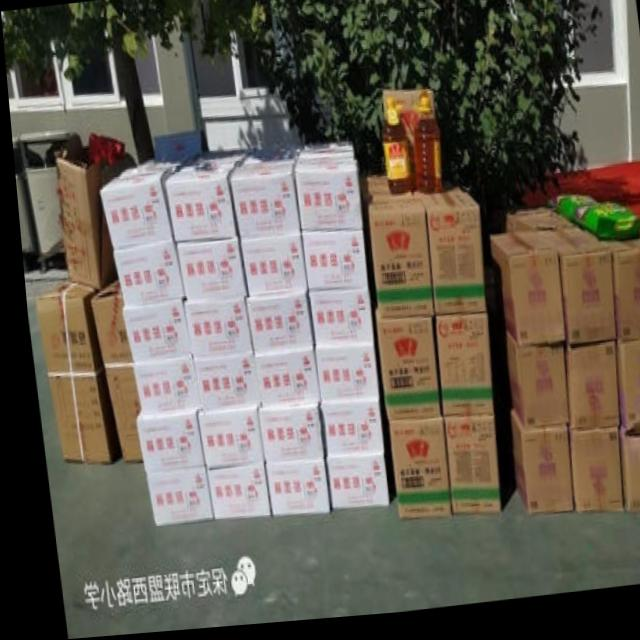box: (28, 280, 111, 463), (51, 149, 131, 292), (530, 234, 609, 353), (84, 279, 133, 464), (483, 238, 559, 356), (363, 204, 428, 322), (417, 200, 479, 323), (368, 314, 432, 427), (501, 417, 562, 521), (94, 168, 169, 252), (379, 424, 441, 525), (498, 338, 561, 437), (429, 320, 485, 421), (436, 423, 491, 522), (162, 169, 234, 244), (227, 163, 295, 241), (378, 96, 432, 192), (594, 242, 640, 350), (291, 163, 358, 235), (557, 351, 611, 439), (559, 434, 613, 522), (107, 241, 179, 307), (234, 235, 301, 301), (116, 301, 186, 364), (128, 409, 195, 473), (170, 242, 239, 303), (240, 297, 306, 360), (189, 408, 254, 471), (179, 299, 246, 360), (136, 467, 203, 528), (296, 235, 362, 295), (125, 356, 192, 415), (248, 353, 312, 412), (250, 408, 314, 467), (312, 402, 376, 461), (308, 347, 371, 406), (255, 463, 320, 520), (186, 358, 253, 413), (303, 293, 366, 350), (196, 467, 261, 522), (316, 460, 378, 514), (608, 347, 640, 446), (609, 436, 640, 522), (499, 213, 567, 241), (176, 154, 247, 173), (294, 144, 350, 165), (407, 184, 457, 207), (237, 152, 295, 168), (356, 180, 384, 205), (128, 156, 185, 168), (367, 196, 407, 209)
